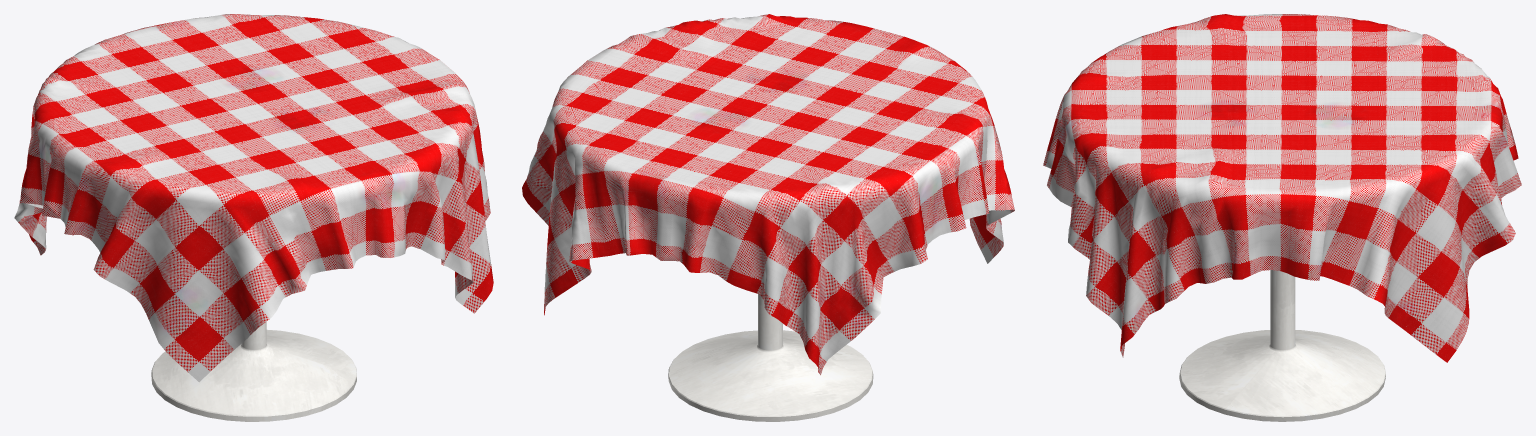
Rendered from table.glb.
3 views of the same model, side by side, from view 1: azimuth 30°, elevation 25°; view 2: azimuth 150°, elevation 25°; view 3: azimuth 270°, elevation 25° (orthographic).
Parts seen in each view (by area): view 1: cover, tableleg; view 2: cover, tableleg; view 3: cover, tableleg.
Boxes of the visible parts, box(x1,y1,x2,y2) form: cover: box(14, 14, 493, 382); tableleg: box(151, 322, 356, 421); cover: box(522, 14, 1014, 375); tableleg: box(668, 294, 873, 421); cover: box(1043, 14, 1521, 362); tableleg: box(1179, 270, 1385, 421).
Bounding box in the file's own units: 2.24 × 1.46 × 2.25.
Materials: 3 (3 with a texture image).
